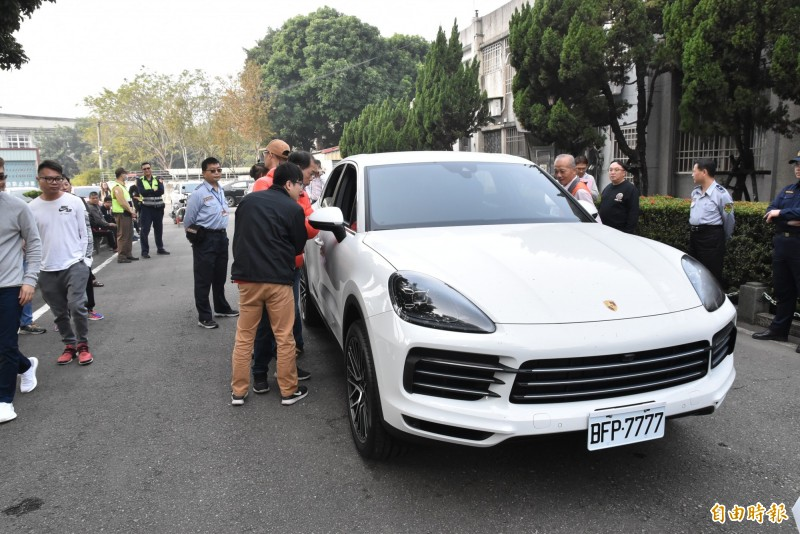LP: (586, 406, 666, 448)
